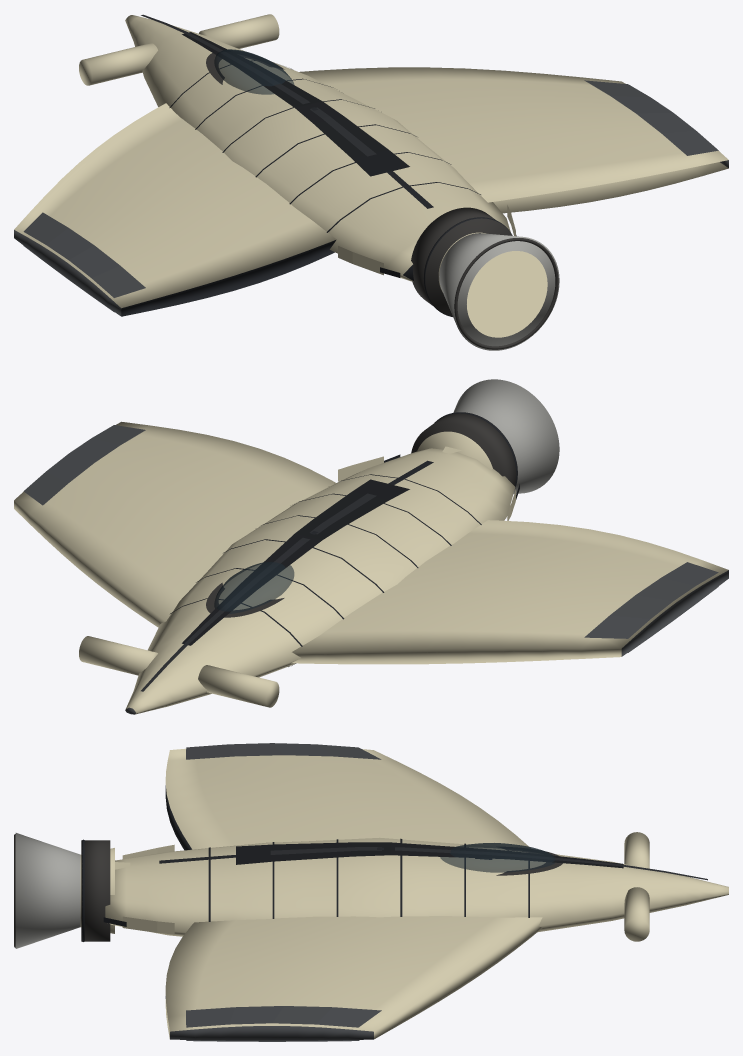
Rendered from Ship_ManraRay_858242.glb.
3 renders of one model, top to bottom at view 1: azimuth 30°, elevation 25°; view 2: azimuth 150°, elevation 25°; view 3: azimuth 270°, elevation 25°, orthographic. The views are drawn at different scales.
Parts seen in each view (by area): view 1: Wing_Left_MantaAerofoil, Wing_Right_MantaAerofoil, Fuselage_CentralRayHull_FacetedAeroBody, EngineEmitter, EngineBell_CentralMainRocketNozzle, PaintDorsalSweep_PrimaryMantaArrow, EngineMount_AftCentralTailBlock, WingTipTrim_Left_HardCutOuterPlate_Top, WingTipTrim_Right_HardCutOuterPlate_Top, CanopyGlass_LowInsetMantaDome, NoseHammer_Left_ForwardSensorLobe, NoseHammer_Right_ForwardSensorLobe (+4 smaller); view 2: Wing_Left_MantaAerofoil, Fuselage_CentralRayHull_FacetedAeroBody, Wing_Right_MantaAerofoil, EngineBell_CentralMainRocketNozzle, PaintDorsalSweep_PrimaryMantaArrow, WingTipTrim_Left_HardCutOuterPlate_Top, WingTipTrim_Right_HardCutOuterPlate_Top, CanopyGlass_LowInsetMantaDome, EngineMount_AftCentralTailBlock, NoseHammer_Left_ForwardSensorLobe, NoseHammer_Right_ForwardSensorLobe, PaintDorsalSweep_SecondaryNeedleLine (+2 smaller); view 3: Fuselage_CentralRayHull_FacetedAeroBody, Wing_Right_MantaAerofoil, Wing_Left_MantaAerofoil, EngineBell_CentralMainRocketNozzle, PaintDorsalSweep_PrimaryMantaArrow, WingTipTrim_Right_HardCutOuterPlate_Top, EngineMount_AftCentralTailBlock, CanopyGlass_LowInsetMantaDome, WingTipTrim_Left_HardCutOuterPlate_Top, PaintDorsalSweep_SecondaryNeedleLine, NoseHammer_Right_ForwardSensorLobe, NoseHammer_Left_ForwardSensorLobe (+2 smaller).
Part boxes in pixels (x1=…): Wing_Left_MantaAerofoil: x1=14, y1=103, x2=336, y2=316; Wing_Right_MantaAerofoil: x1=299, y1=67, x2=728, y2=213; Fuselage_CentralRayHull_FacetedAeroBody: x1=125, y1=15, x2=510, y2=281; EngineEmitter: x1=467, y1=251, x2=547, y2=337; EngineBell_CentralMainRocketNozzle: x1=439, y1=233, x2=559, y2=350; PaintDorsalSweep_PrimaryMantaArrow: x1=182, y1=32, x2=409, y2=176; EngineMount_AftCentralTailBlock: x1=411, y1=207, x2=512, y2=316; WingTipTrim_Left_HardCutOuterPlate_Top: x1=23, y1=212, x2=145, y2=297; WingTipTrim_Right_HardCutOuterPlate_Top: x1=584, y1=80, x2=718, y2=155; CanopyGlass_LowInsetMantaDome: x1=214, y1=49, x2=294, y2=94; NoseHammer_Left_ForwardSensorLobe: x1=79, y1=43, x2=157, y2=85; NoseHammer_Right_ForwardSensorLobe: x1=199, y1=14, x2=279, y2=48; Wing_Left_MantaAerofoil: x1=291, y1=520, x2=728, y2=664; Fuselage_CentralRayHull_FacetedAeroBody: x1=125, y1=448, x2=515, y2=714; Wing_Right_MantaAerofoil: x1=14, y1=421, x2=336, y2=627; EngineBell_CentralMainRocketNozzle: x1=453, y1=379, x2=559, y2=493; PaintDorsalSweep_PrimaryMantaArrow: x1=182, y1=479, x2=409, y2=645; WingTipTrim_Left_HardCutOuterPlate_Top: x1=584, y1=562, x2=718, y2=638; WingTipTrim_Right_HardCutOuterPlate_Top: x1=23, y1=425, x2=145, y2=505; CanopyGlass_LowInsetMantaDome: x1=214, y1=562, x2=294, y2=613; EngineMount_AftCentralTailBlock: x1=411, y1=412, x2=517, y2=485; NoseHammer_Left_ForwardSensorLobe: x1=198, y1=665, x2=279, y2=707; NoseHammer_Right_ForwardSensorLobe: x1=79, y1=636, x2=157, y2=675; PaintDorsalSweep_SecondaryNeedleLine: x1=141, y1=493, x2=376, y2=691; Fuselage_CentralRayHull_FacetedAeroBody: x1=105, y1=837, x2=728, y2=936; Wing_Right_MantaAerofoil: x1=165, y1=916, x2=542, y2=1040; Wing_Left_MantaAerofoil: x1=165, y1=748, x2=529, y2=850; EngineBell_CentralMainRocketNozzle: x1=15, y1=833, x2=80, y2=948; PaintDorsalSweep_PrimaryMantaArrow: x1=236, y1=842, x2=623, y2=868; WingTipTrim_Right_HardCutOuterPlate_Top: x1=186, y1=1006, x2=381, y2=1027; EngineMount_AftCentralTailBlock: x1=81, y1=840, x2=110, y2=941; CanopyGlass_LowInsetMantaDome: x1=440, y1=843, x2=554, y2=872; WingTipTrim_Left_HardCutOuterPlate_Top: x1=186, y1=743, x2=381, y2=759; PaintDorsalSweep_SecondaryNeedleLine: x1=270, y1=847, x2=707, y2=880; NoseHammer_Right_ForwardSensorLobe: x1=624, y1=887, x2=649, y2=941; NoseHammer_Left_ForwardSensorLobe: x1=624, y1=832, x2=649, y2=868.
Bounding box in the file's own units: 6.83 × 1.2 × 7.34.
